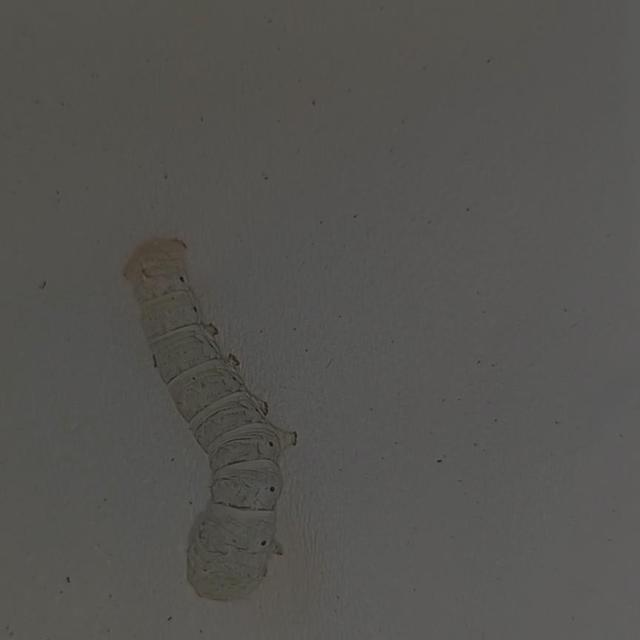Healthy: (114, 227, 298, 610)
